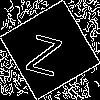Z: (25, 25, 66, 77)
